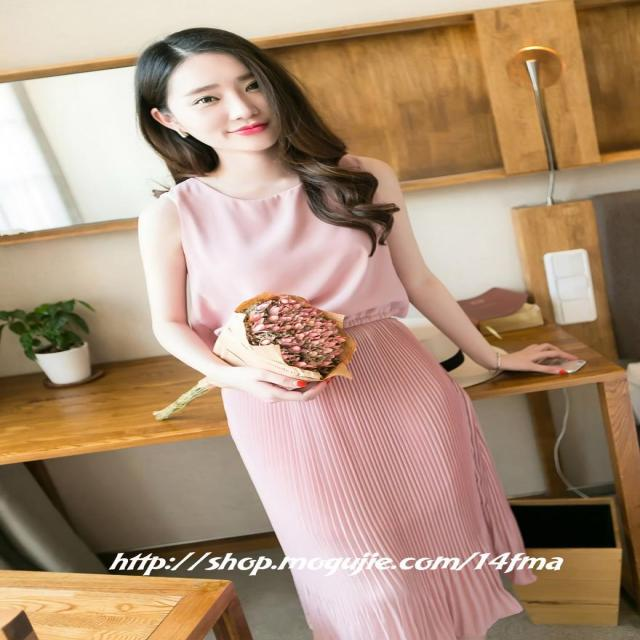vest dress: (165, 151, 535, 638)
